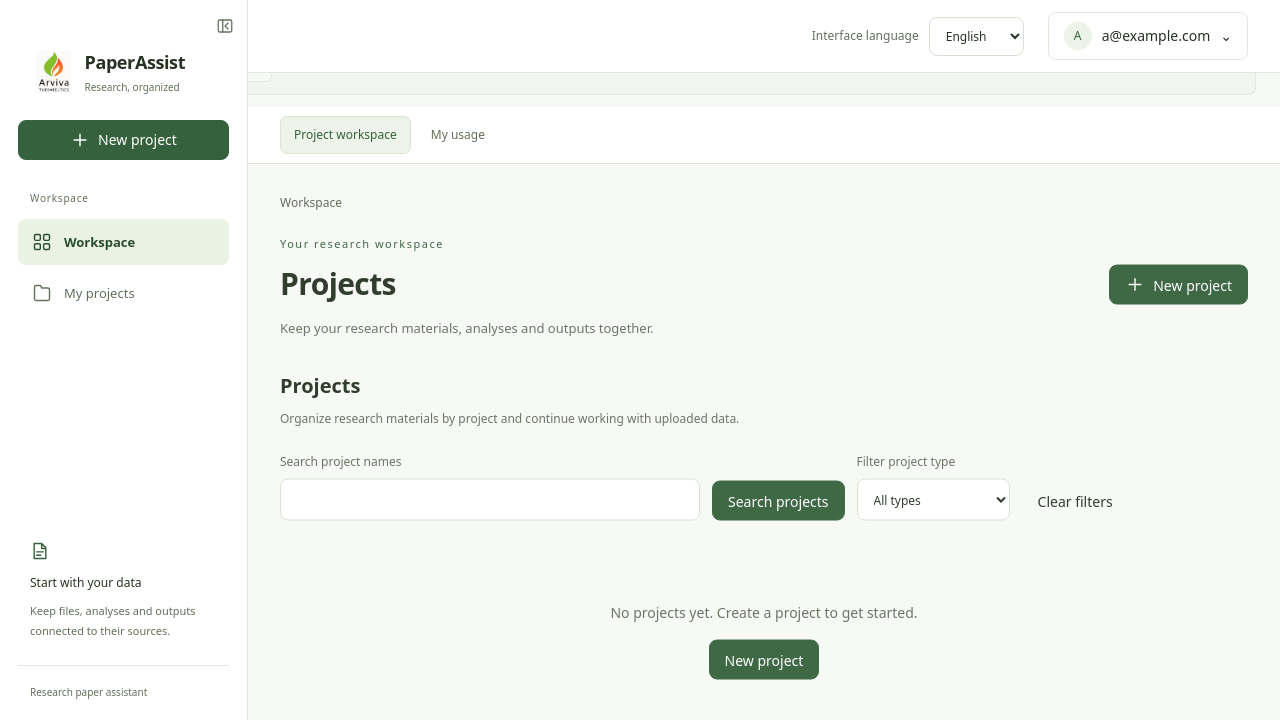
Test case: times out preference writes, ignores their late body and allows retry
This screenshot has width=1280, height=720.
(page scrolled)
Select "简体中文" in the dropdown labelled "Interface language" at (976, 36), box [929,16,1024,56]
Wait 15000 ms
(page scrolled)
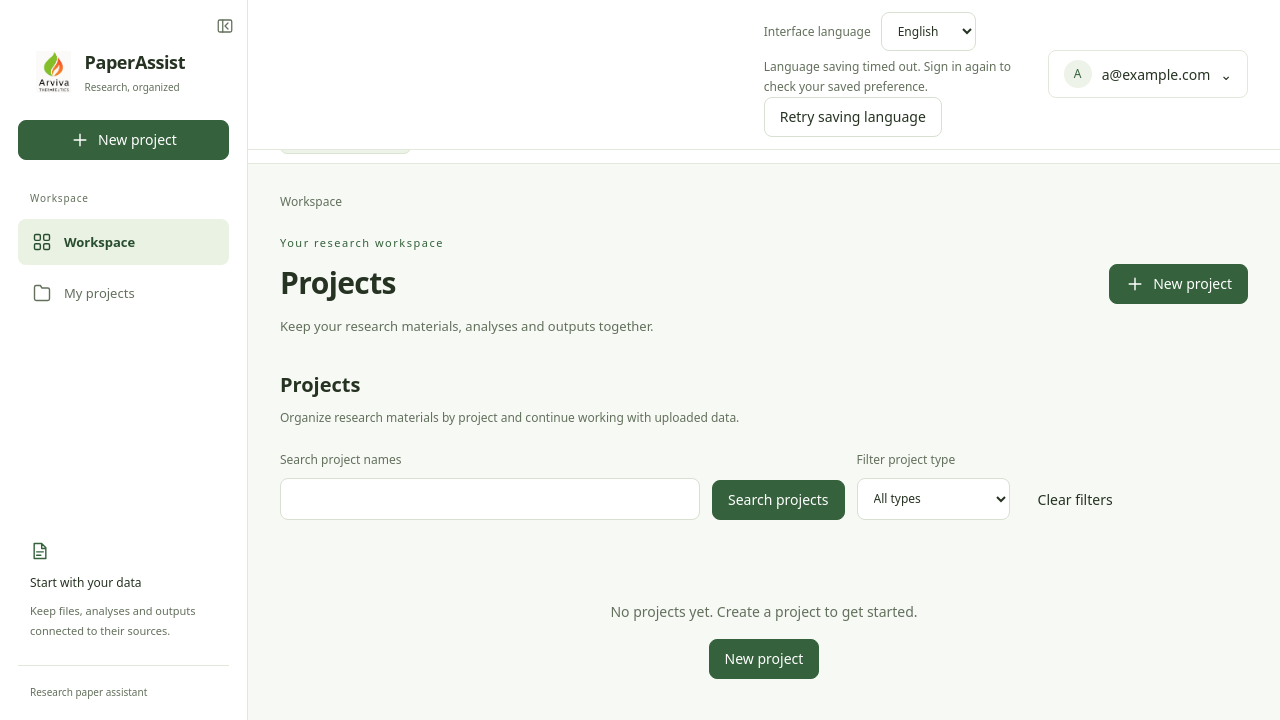
Expected: the message shows "timed out", [764,58,1011,95]
Expected: the button "Retry saving language" is enabled, [764,97,942,137]
